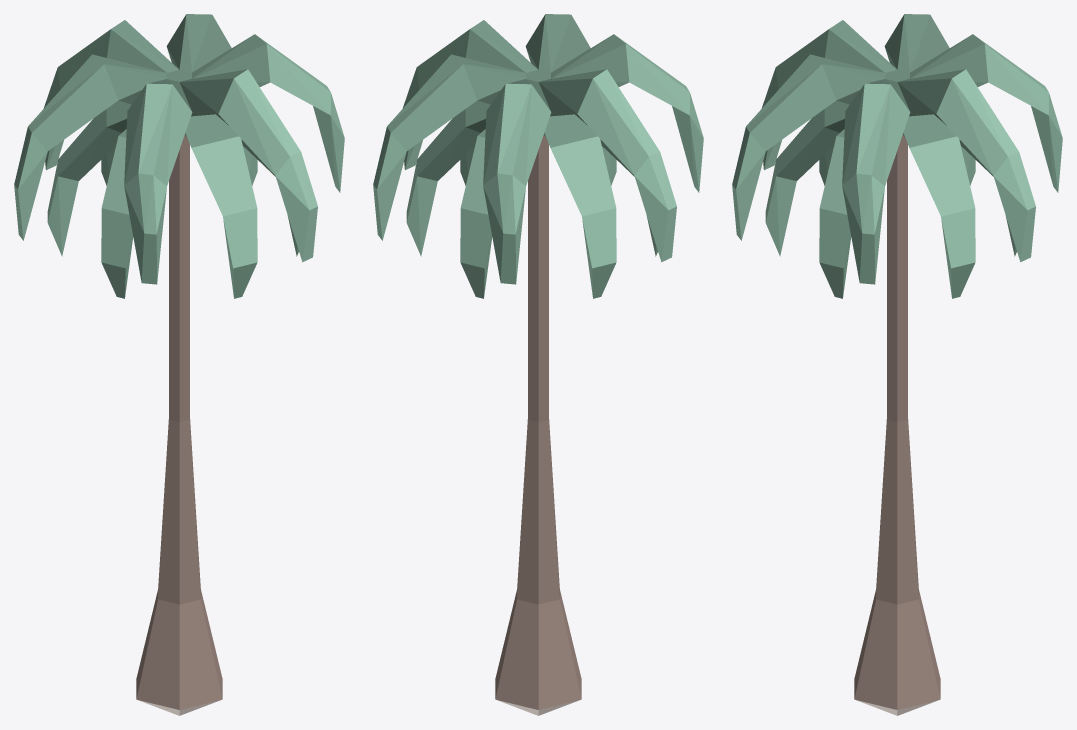
The model's file is TreeTallPalm.fbx.
3 views of the same model, side by side, from view 1: azimuth 30°, elevation 25°; view 2: azimuth 150°, elevation 25°; view 3: azimuth 270°, elevation 25° (orthographic).
Visible parts, largest first — view 1: TreeTallPalm; view 2: TreeTallPalm; view 3: TreeTallPalm.
Part boxes in pixels (box(x1,y1,x2,y2)): TreeTallPalm: box(14, 14, 344, 715); TreeTallPalm: box(373, 14, 703, 715); TreeTallPalm: box(732, 14, 1062, 715).
Bounding box in the file's own units: 4.67 × 9.92 × 4.46.
